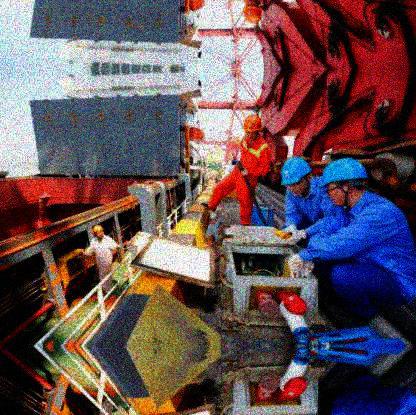helmet: (316, 155, 372, 210), (279, 157, 314, 197), (241, 116, 262, 142), (241, 1, 263, 25), (91, 224, 104, 240)
